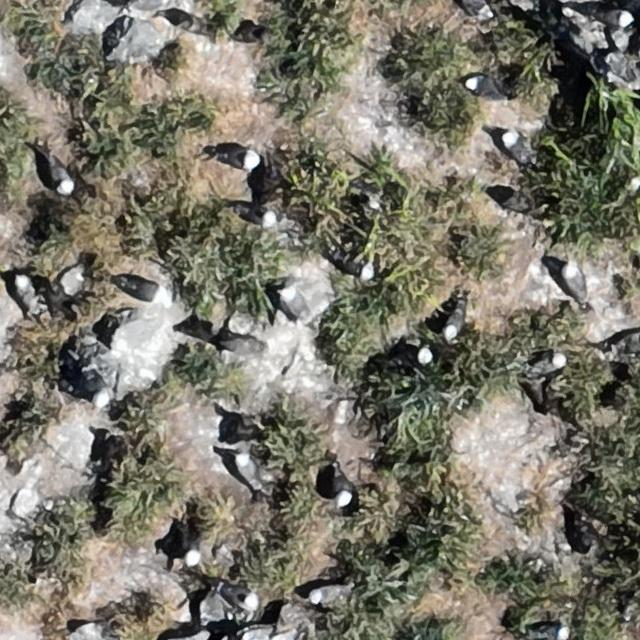umineko: (276, 286, 313, 326), (338, 249, 376, 282), (126, 278, 168, 306), (465, 75, 507, 101), (86, 371, 112, 409), (50, 159, 74, 194), (589, 8, 632, 26), (217, 150, 255, 170), (234, 208, 272, 228), (225, 587, 258, 609), (235, 454, 257, 486), (564, 263, 584, 298), (504, 134, 527, 163), (333, 471, 352, 506), (15, 277, 36, 308), (534, 354, 566, 374), (444, 305, 463, 337), (308, 585, 339, 604), (534, 623, 568, 639), (578, 525, 596, 554), (462, 0, 492, 17), (185, 540, 203, 566), (415, 345, 432, 364)
